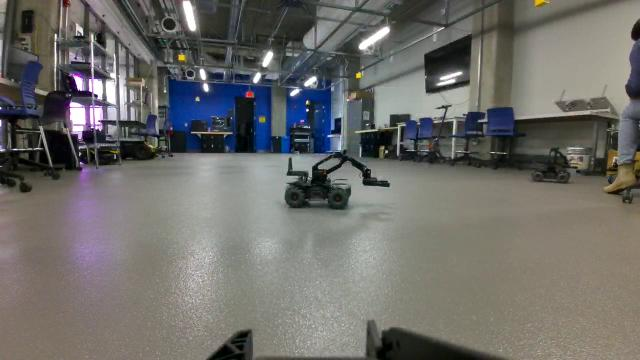robot: (282, 145, 391, 213)
